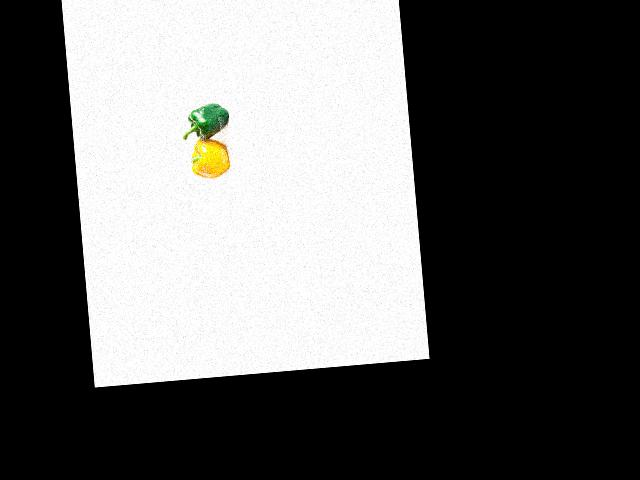bell_pepper: (184, 98, 236, 140)
